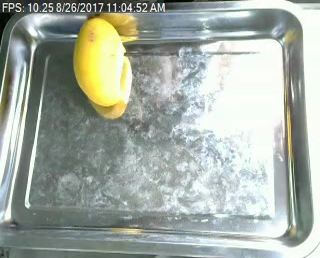Mango: (70, 19, 132, 106)
